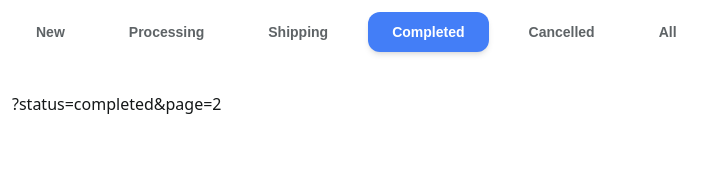
OrderTabs › sets status=all in URL when All tab is clicked
This screenshot has width=719, height=172.
Click the button "All": point(668, 32) left=635, top=12, right=701, bottom=52
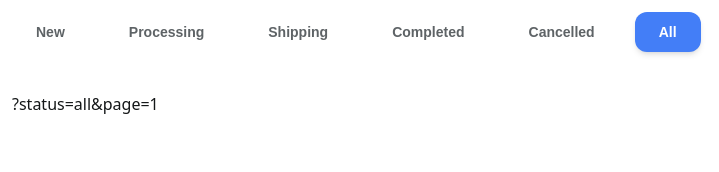
Check: the text with test id "location-display" shows "status=all", box left=12, top=93, right=159, bottom=115
Check: the text with test id "location-display" no longer shows "status=completed"
Check: the text with test id "location-display" shows "page=1", box left=12, top=93, right=159, bottom=115
